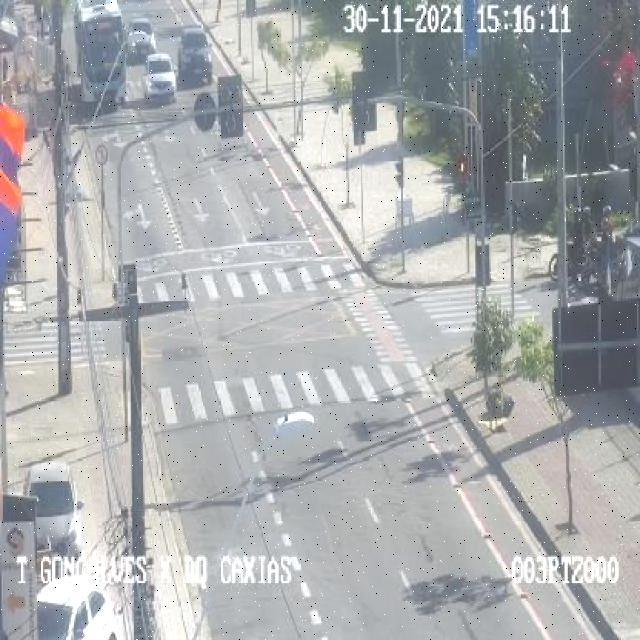Bus: (65, 0, 132, 115)
Car: (13, 457, 86, 559), (26, 574, 119, 640), (173, 28, 220, 86), (147, 60, 180, 111), (131, 23, 164, 63)
